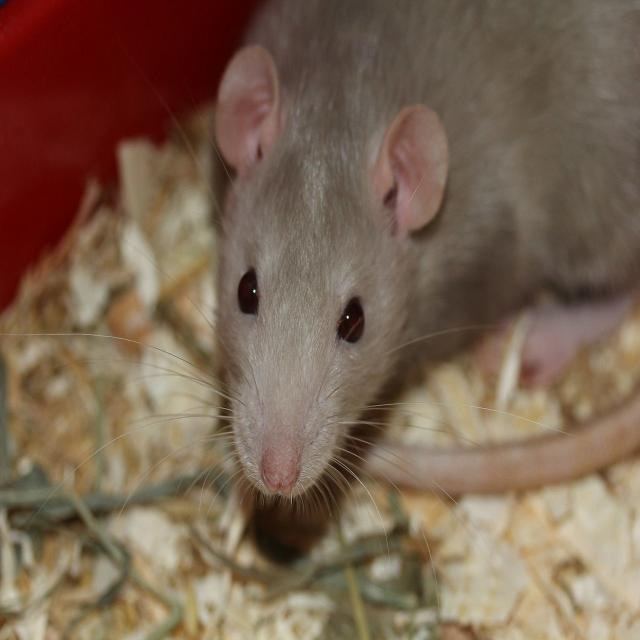rat: (213, 0, 640, 554)
